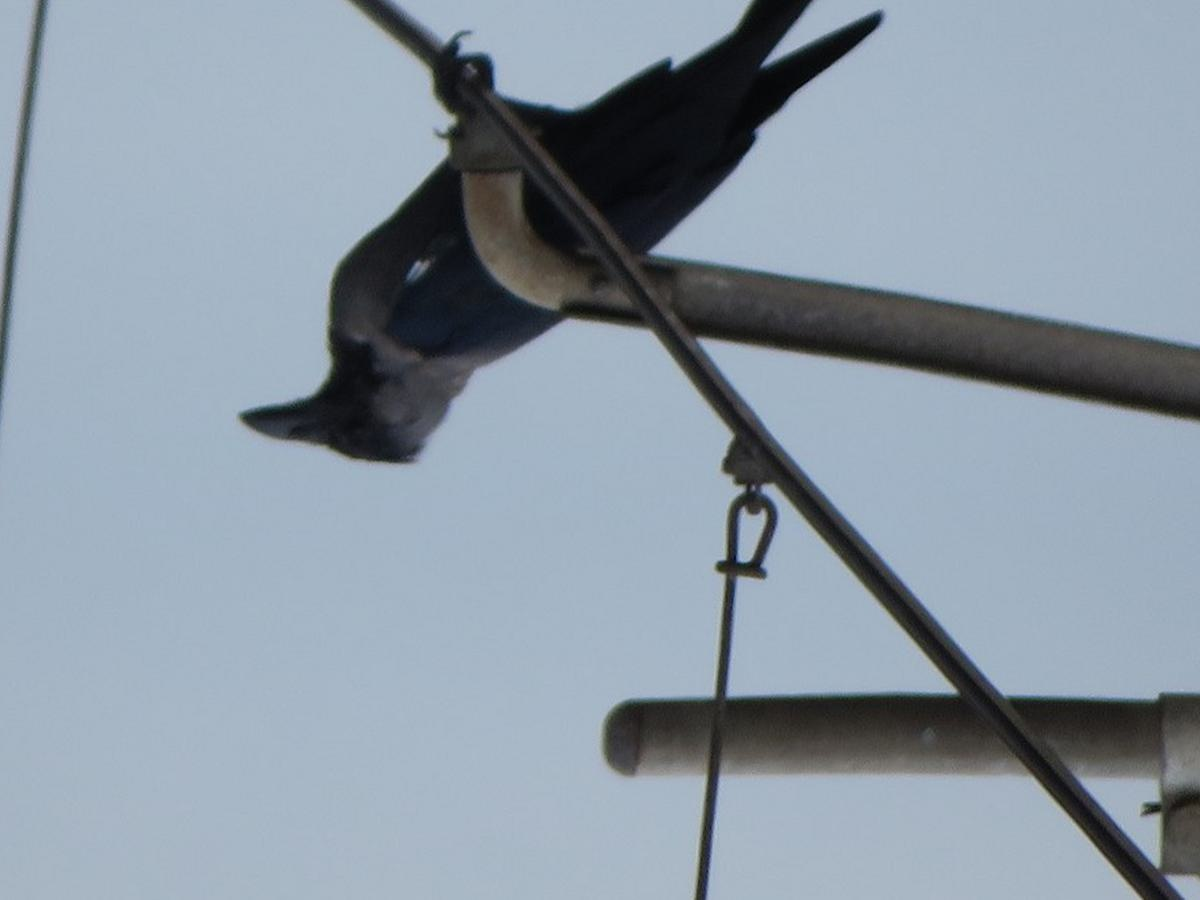crow: (224, 1, 881, 465)
